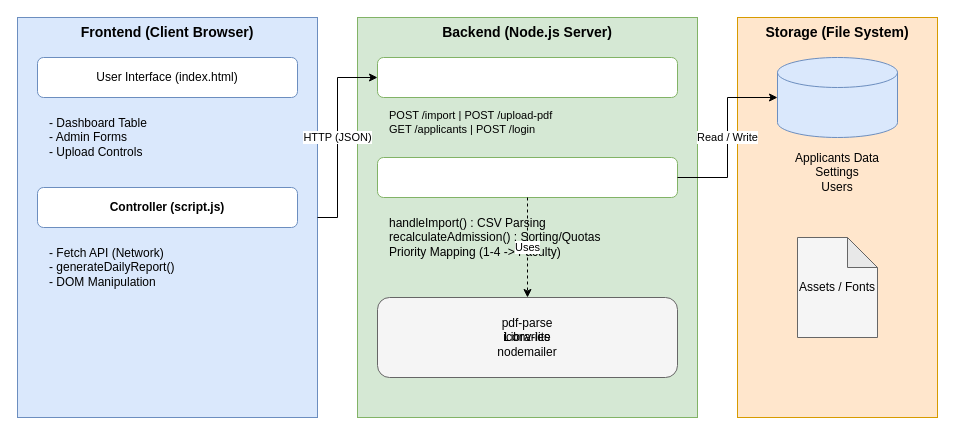
Some shapes in this 955 by 435 pixel diagram are drawn without their labels. Here are the shapes that lost their labels. From the top down, the centre of each, then its label:
point 527,77: API Routes
point 837,97: db.json
point 527,177: Core Logic
